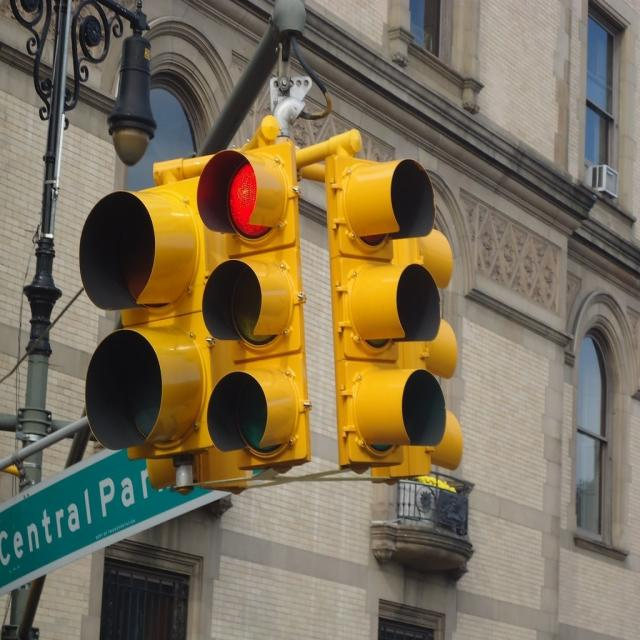E-waste: (68, 96, 481, 492)
